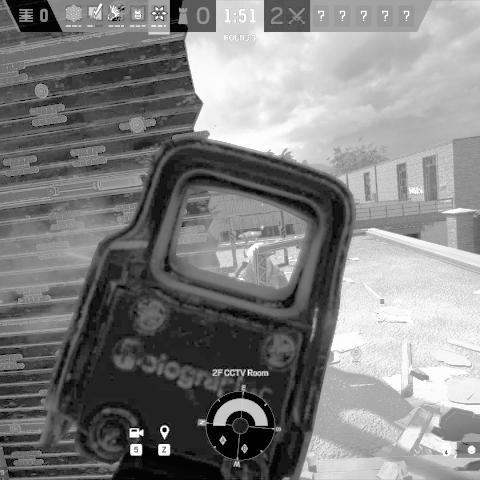Character: (234, 241, 290, 289)
Head: (248, 242, 273, 278)
